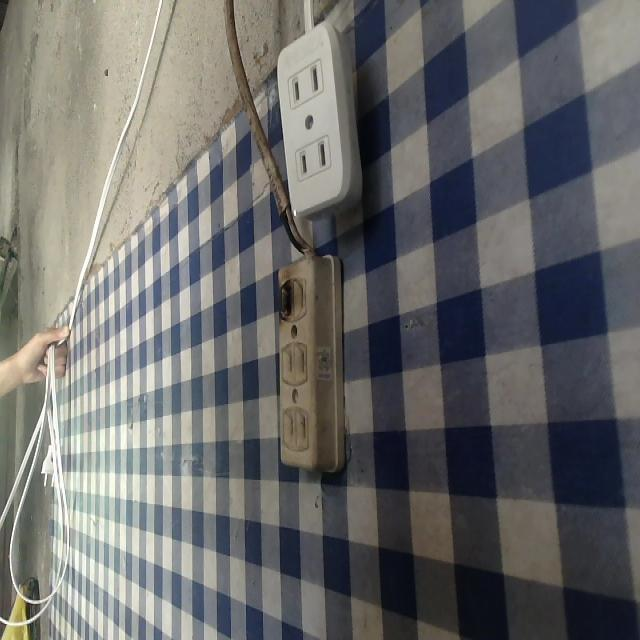-: (267, 265, 299, 327)
